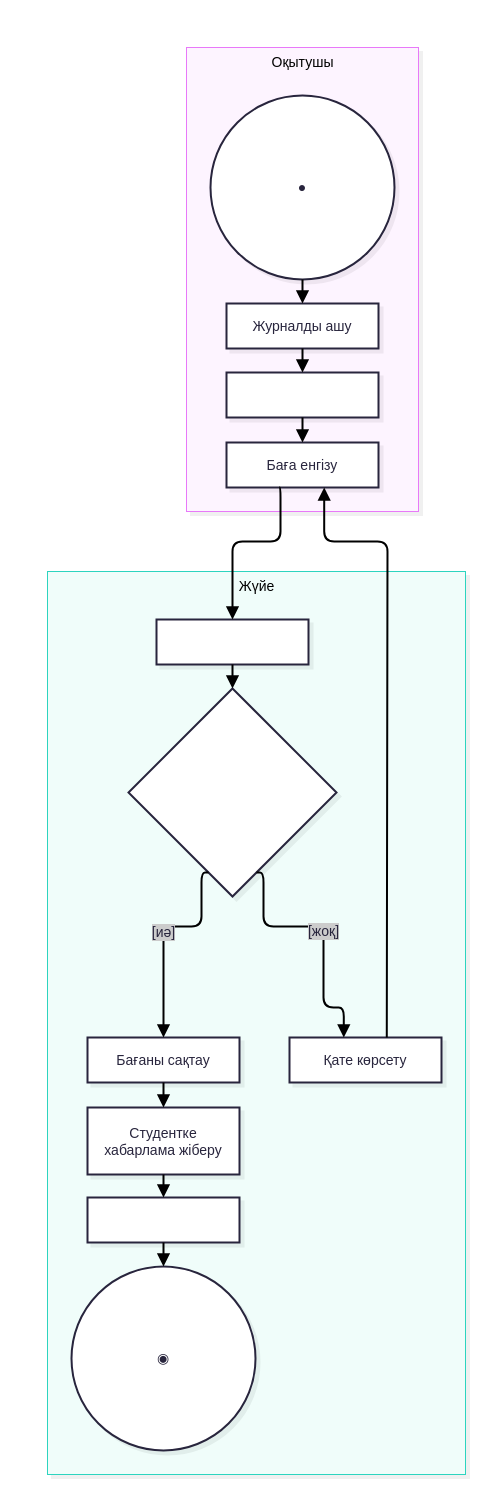
This 487x1496 diagram has some shape labels left out. Each missing label, with the centre of its shape:
Баға 0-100 аралығында ма?: the point at 234,794
Деректі тексеру: the point at 234,643
Журналды жаңарту: the point at 165,1221
Студентті таңдау: the point at 304,396
